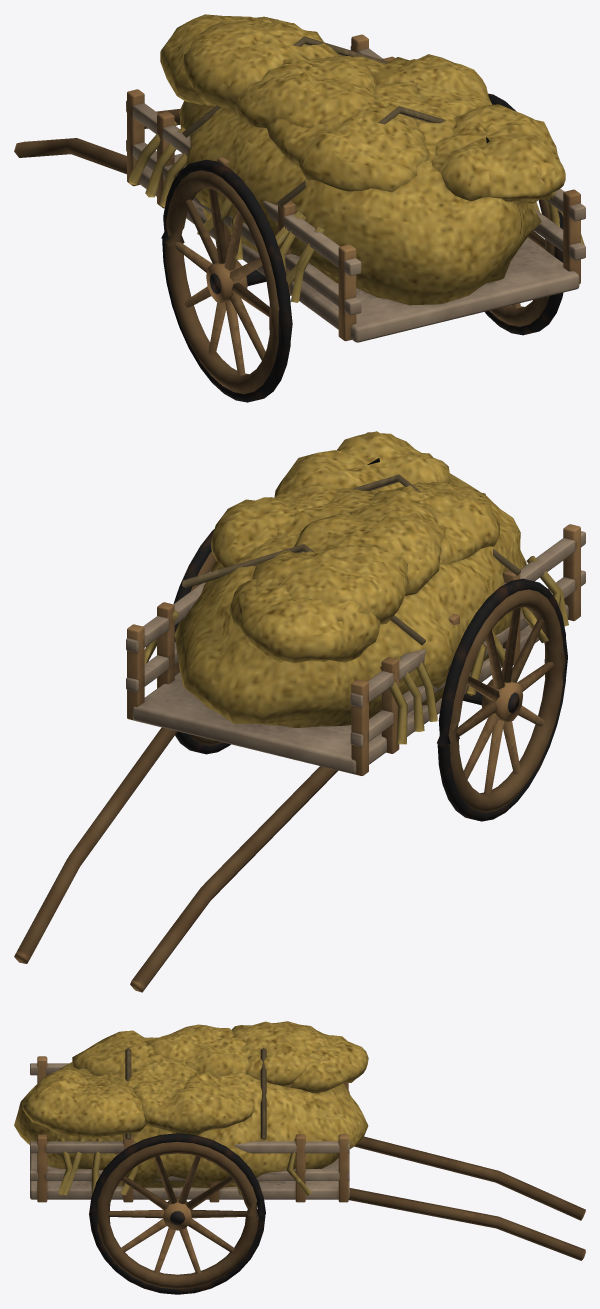
The model's file is hay_cart.obj.
The picture shows the model from 3 angles, top to bottom: view 1: azimuth 30°, elevation 25°; view 2: azimuth 150°, elevation 25°; view 3: azimuth 270°, elevation 25°; orthographic projection. The views are drawn at different scales.
Parts seen in each view (by area): view 1: part3, part0, part2, part1, part6, part4; view 2: part3, part0, part2, part1, part6, part4; view 3: part3, part0, part2, part1, part6, part4.
Part boxes in pixels (box(x1,y1,x2,y2)): part3: box(160, 14, 565, 305); part0: box(14, 34, 580, 393); part2: box(126, 46, 585, 342); part1: box(161, 93, 563, 402); part6: box(128, 121, 584, 302); part4: box(182, 36, 445, 207); part3: box(174, 431, 526, 727); part0: box(14, 524, 580, 992); part2: box(126, 531, 585, 774); part1: box(173, 529, 567, 821); part6: box(144, 556, 568, 744); part4: box(182, 474, 520, 645); part3: box(14, 1021, 368, 1200); part0: box(37, 1056, 585, 1289); part2: box(30, 1063, 349, 1199); part1: box(89, 1133, 265, 1294); part6: box(58, 1138, 311, 1195); part4: box(125, 1047, 266, 1140).
Bounding box in the file's own units: 2 × 1.82 × 4.65.
